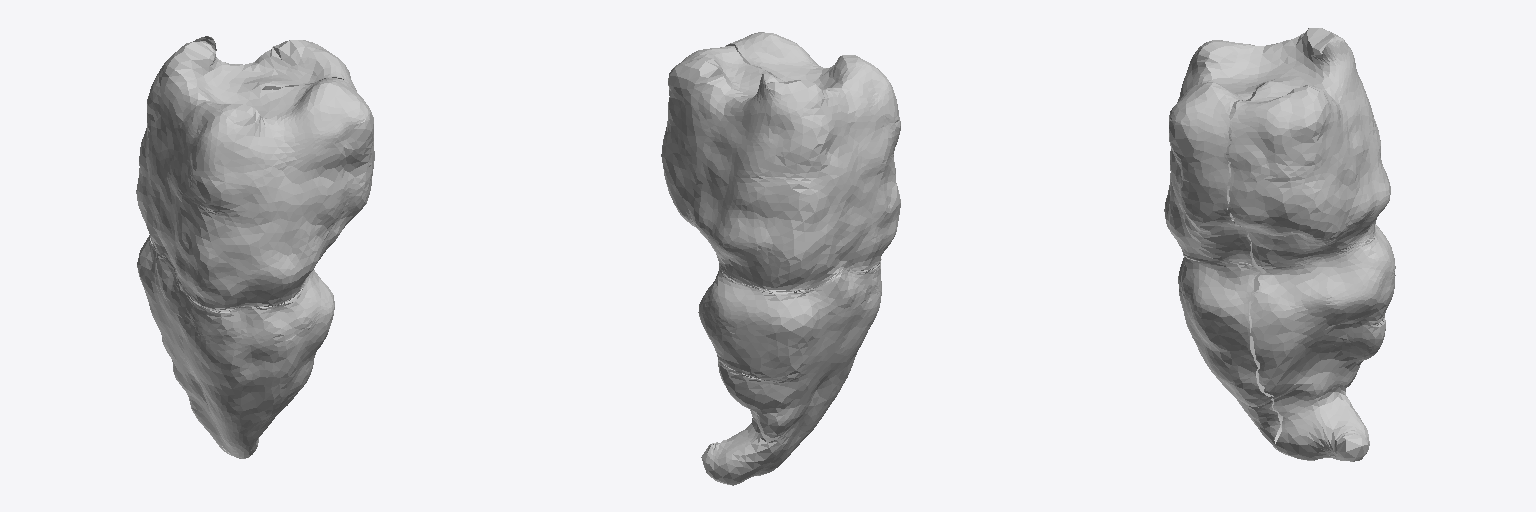
Rendered from mesh_simplified.obj.
3 views of the same model, side by side, from view 1: azimuth 30°, elevation 25°; view 2: azimuth 150°, elevation 25°; view 3: azimuth 270°, elevation 25° (orthographic).
Size of the model in its own units: 452 by 915 by 465.